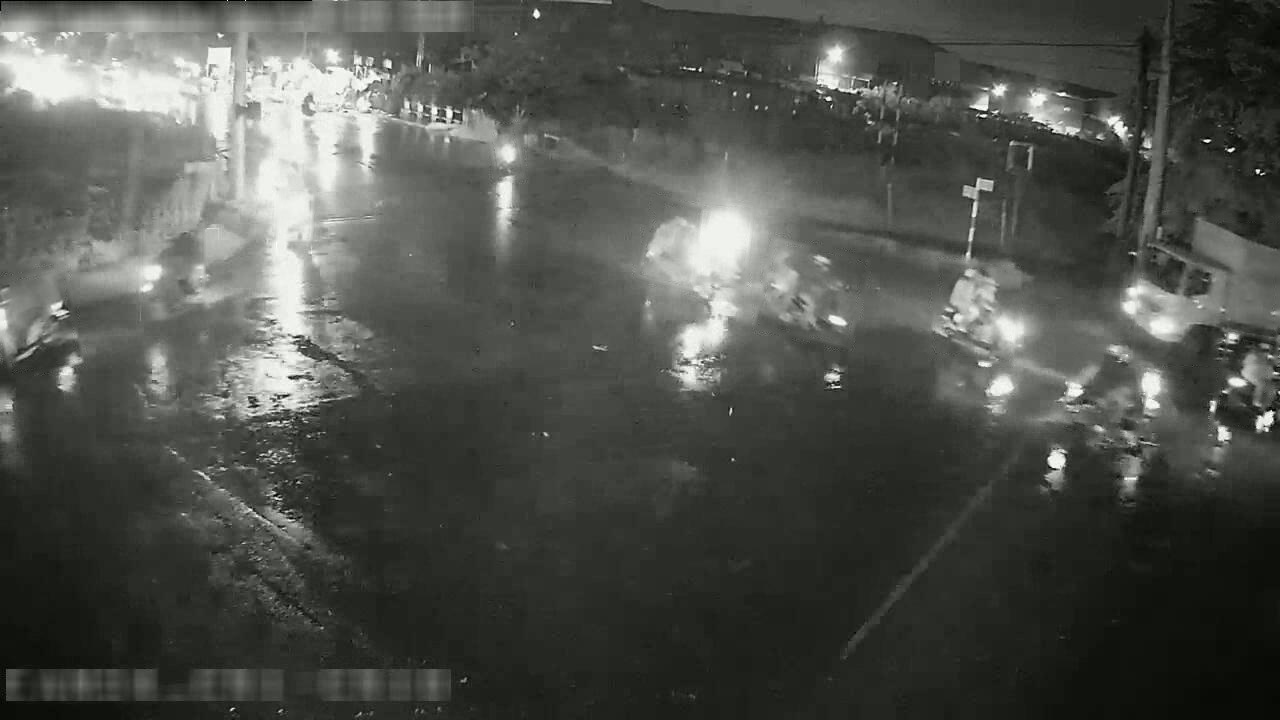Motorcyclist: (1059, 344, 1162, 453), (931, 263, 1024, 365), (762, 248, 856, 342), (0, 272, 77, 374), (1211, 340, 1279, 433), (140, 232, 211, 320), (694, 208, 752, 280), (642, 215, 698, 285), (276, 190, 314, 249), (492, 130, 523, 179)
Sign: (976, 178, 993, 191)
Truck: (1124, 217, 1279, 354)
